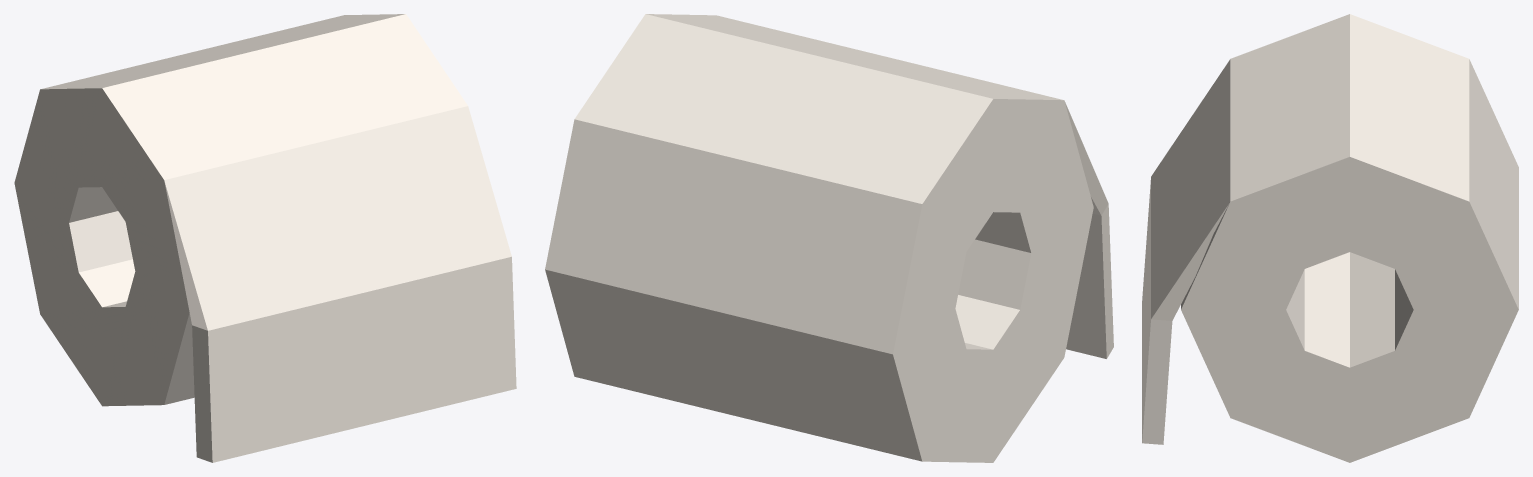
Rendered from ToiletPaper2.fbx.
The picture shows the model from 3 angles, left to right: view 1: azimuth 30°, elevation 25°; view 2: azimuth 150°, elevation 25°; view 3: azimuth 270°, elevation 25°; orthographic projection. The views are drawn at different scales.
Parts seen in each view (by area): view 1: ToiletPaper2; view 2: ToiletPaper2; view 3: ToiletPaper2.
Part boxes in pixels (<box>): ToiletPaper2: <box>14,14,516,462</box>; ToiletPaper2: <box>545,14,1113,462</box>; ToiletPaper2: <box>1142,14,1518,462</box>.
Bounding box in the file's own units: 37.87 × 37.2 × 41.47.
